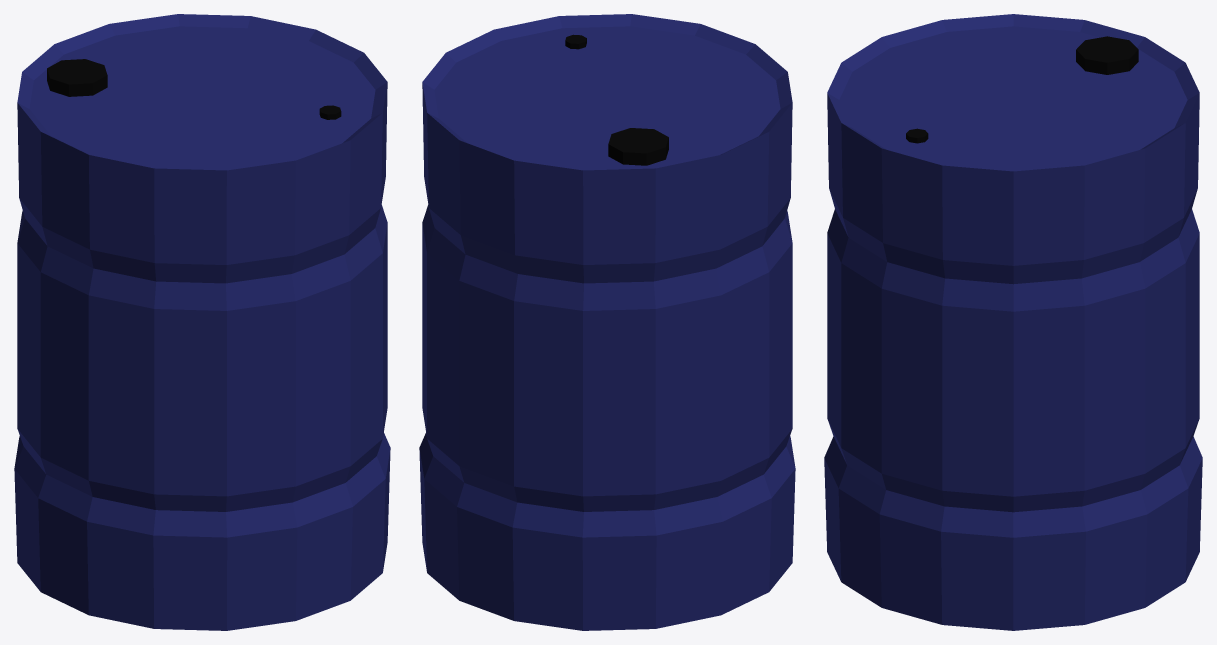
Rendered from Barrelfbx.fbx.
The picture shows the model from 3 angles, left to right: view 1: azimuth 30°, elevation 25°; view 2: azimuth 150°, elevation 25°; view 3: azimuth 270°, elevation 25°; orthographic projection.
Visible parts, largest first — view 1: Barrel; view 2: Barrel; view 3: Barrel.
Boxes of the visible parts, x1=… form: Barrel: x1=14, y1=14, x2=390, y2=630; Barrel: x1=419, y1=14, x2=795, y2=630; Barrel: x1=824, y1=14, x2=1202, y2=630.
Size of the model in its own units: 73.48 by 99.5 by 73.48.
